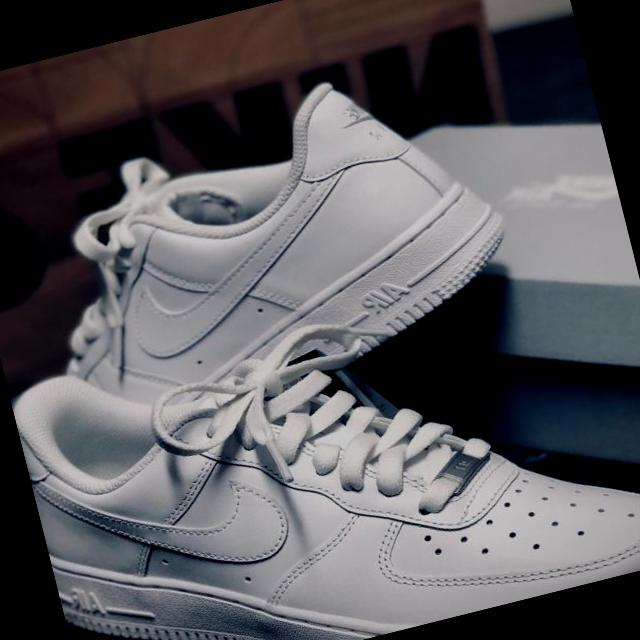nike_original_airforce: (11, 251, 640, 640), (9, 54, 538, 500)
